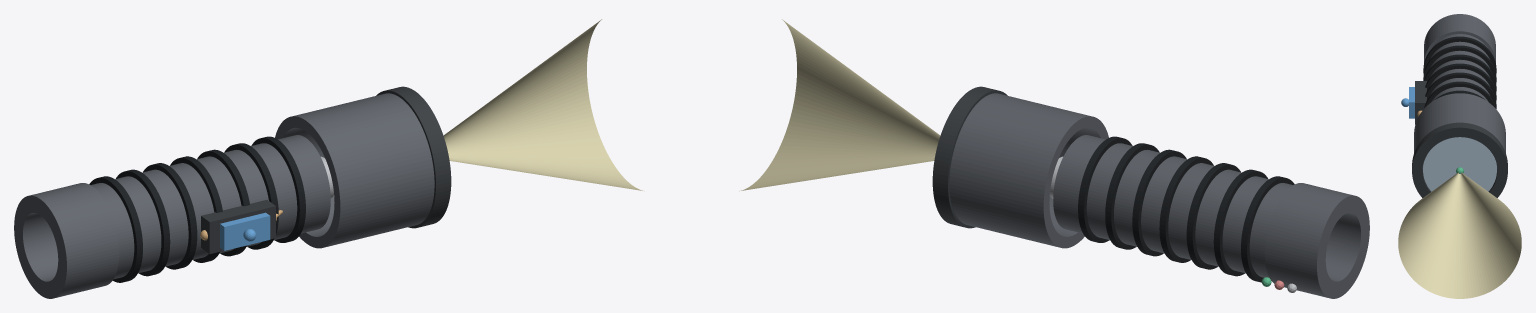
The model's file is flashlight.glb.
The picture shows the model from 3 angles, left to right: view 1: azimuth 30°, elevation 25°; view 2: azimuth 150°, elevation 25°; view 3: azimuth 270°, elevation 25°; orthographic projection. The views are drawn at different scales.
Parts seen in each view (by area): view 1: structure.frontHousing_headShell, illumination.fieldOfView_20deg_lightCone, structure.middleHousing_bodyShell_translucent, structure.backHousing_tailCap, structure.frontHousing_frontBezel, switch.body, switch.toggleSurface_cmdPort, structure.middleHousing_gripRing_3, structure.middleHousing_gripRing_7, structure.middleHousing_gripRing_2, structure.middleHousing_gripRing_1, structure.middleHousing_gripRing_6 (+2 smaller); view 2: structure.frontHousing_headShell, structure.middleHousing_bodyShell_translucent, illumination.fieldOfView_20deg_lightCone, structure.backHousing_tailCap, structure.frontHousing_frontBezel, structure.middleHousing_gripRing_4, structure.middleHousing_gripRing_5, structure.middleHousing_gripRing_3, structure.middleHousing_gripRing_6, structure.middleHousing_gripRing_7, structure.middleHousing_gripRing_2, structure.middleHousing_gripRing_1; view 3: illumination.fieldOfView_20deg_lightCone, optics.lens.transparent, structure.frontHousing_headShell, structure.frontHousing_frontBezel, structure.backHousing_tailCap, structure.middleHousing_bodyShell_translucent, structure.middleHousing_gripRing_1, structure.middleHousing_gripRing_2, structure.middleHousing_gripRing_3, structure.middleHousing_gripRing_4, structure.middleHousing_gripRing_5, structure.middleHousing_gripRing_6 (+3 smaller).
Part boxes in pixels (x1,y1,x2,y2): structure.frontHousing_headShell: [275, 93, 434, 248]; illumination.fieldOfView_20deg_lightCone: [443, 19, 644, 191]; structure.middleHousing_bodyShell_translucent: [91, 135, 330, 278]; structure.backHousing_tailCap: [14, 183, 119, 298]; structure.frontHousing_frontBezel: [376, 86, 451, 228]; switch.body: [201, 200, 275, 253]; switch.toggleSurface_cmdPort: [220, 212, 270, 250]; structure.middleHousing_gripRing_3: [143, 163, 197, 269]; structure.middleHousing_gripRing_7: [251, 136, 305, 242]; structure.middleHousing_gripRing_2: [116, 169, 170, 276]; structure.middleHousing_gripRing_1: [89, 176, 142, 282]; structure.middleHousing_gripRing_6: [224, 143, 278, 249]; structure.frontHousing_headShell: [949, 93, 1108, 248]; structure.middleHousing_bodyShell_translucent: [1053, 135, 1292, 277]; illumination.fieldOfView_20deg_lightCone: [739, 19, 940, 191]; structure.backHousing_tailCap: [1264, 183, 1369, 298]; structure.frontHousing_frontBezel: [932, 86, 1007, 228]; structure.middleHousing_gripRing_4: [1159, 156, 1213, 262]; structure.middleHousing_gripRing_5: [1132, 149, 1186, 256]; structure.middleHousing_gripRing_3: [1186, 163, 1240, 269]; structure.middleHousing_gripRing_6: [1105, 143, 1159, 249]; structure.middleHousing_gripRing_7: [1078, 136, 1132, 242]; structure.middleHousing_gripRing_2: [1213, 169, 1267, 276]; structure.middleHousing_gripRing_1: [1241, 176, 1294, 282]; illumination.fieldOfView_20deg_lightCone: [1398, 172, 1521, 298]; optics.lens.transparent: [1423, 137, 1496, 191]; structure.frontHousing_headShell: [1414, 93, 1505, 170]; structure.frontHousing_frontBezel: [1412, 122, 1507, 197]; structure.backHousing_tailCap: [1424, 14, 1495, 62]; structure.middleHousing_bodyShell_translucent: [1430, 34, 1489, 101]; structure.middleHousing_gripRing_1: [1423, 36, 1496, 73]; structure.middleHousing_gripRing_2: [1423, 45, 1496, 82]; structure.middleHousing_gripRing_3: [1424, 54, 1496, 91]; structure.middleHousing_gripRing_4: [1425, 63, 1496, 100]; structure.middleHousing_gripRing_5: [1425, 72, 1496, 109]; structure.middleHousing_gripRing_6: [1424, 81, 1495, 108].
Bounding box in the file's own units: 0.2325 × 0.0619 × 0.0619.
